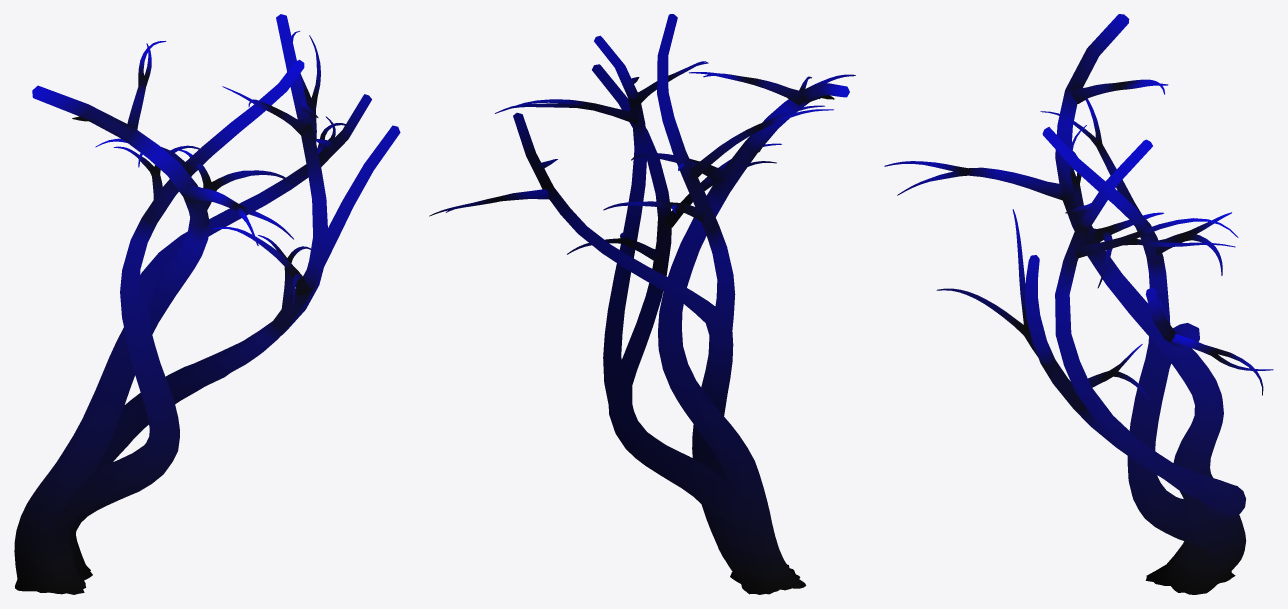
Rendered from Sakura Trunk 003.fbx.
3 renders of one model, left to right at view 1: azimuth 30°, elevation 25°; view 2: azimuth 150°, elevation 25°; view 3: azimuth 270°, elevation 25°, orthographic. The views are drawn at different scales.
Parts seen in each view (by area): view 1: Sakura_Trunk_003_LOD0; view 2: Sakura_Trunk_003_LOD0; view 3: Sakura_Trunk_003_LOD0.
Part boxes in pixels (<box>): Sakura_Trunk_003_LOD0: <box>14,14,400,594</box>; Sakura_Trunk_003_LOD0: <box>429,14,855,594</box>; Sakura_Trunk_003_LOD0: <box>884,14,1273,594</box>.
Size of what is drawn, in the model's own units: 505 by 652 by 428.
